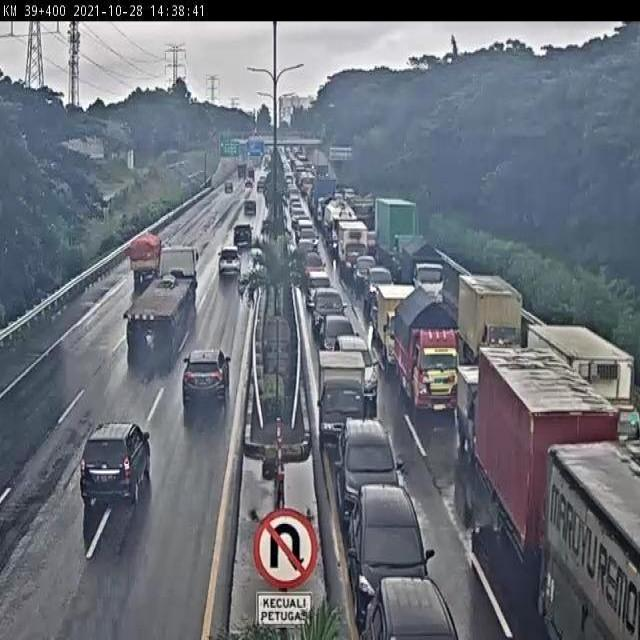big truck: (480, 348, 603, 529), (551, 449, 637, 632), (528, 327, 635, 444)
car: (354, 488, 426, 579), (371, 574, 453, 640), (81, 418, 148, 498), (345, 417, 403, 488), (181, 344, 229, 409), (339, 331, 379, 400)
small truck: (399, 282, 459, 414), (461, 277, 521, 356), (460, 358, 506, 450), (321, 352, 364, 432), (323, 312, 356, 345)
